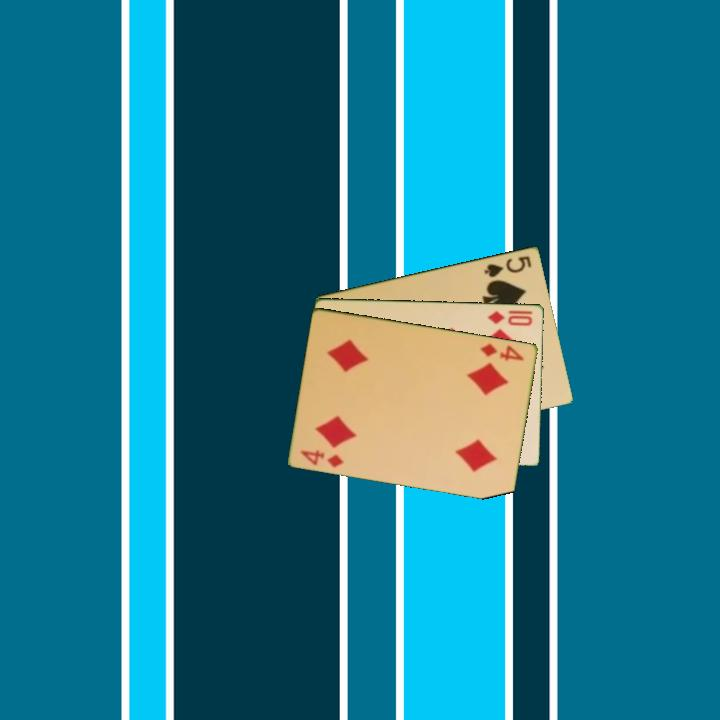10d: (485, 307, 535, 328)
4d: (297, 446, 347, 470), (477, 340, 527, 363)
5s: (481, 252, 535, 280)
